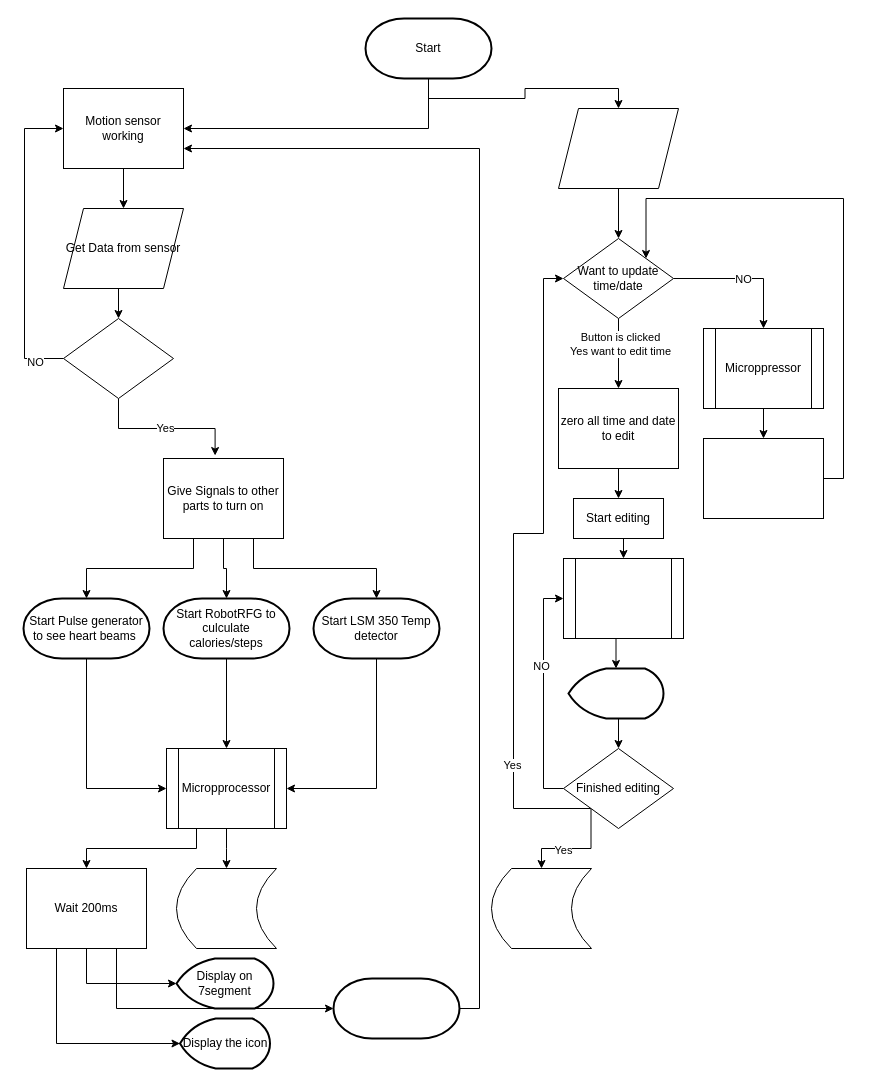
Image size: 869x1086. Some labels were removed from this diagram. Here are the shapes that lost their labels. From the top down, the centre of each, then its label:
At [618,148]: "Watch will be defult onspecific time".
At [118,358]: "Check If there is motin".
At [763,478]: "500ms".
At [623,598]: "Microppreccor".
At [615,693]: "Data is displayed while editted".
At [226,908]: "Store Data in Memory".
At [541,908]: "Store Time/Date editted".
At [396,1008]: "Turn off all detectors".
